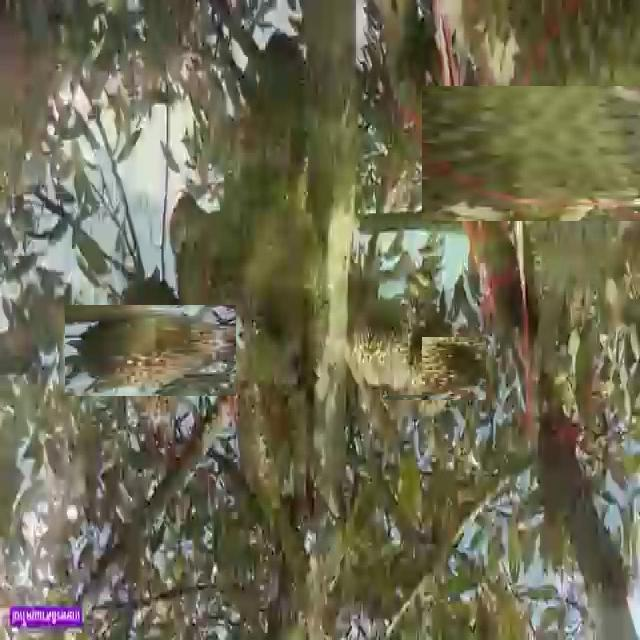durian: (461, 48, 640, 261), (84, 285, 216, 416), (349, 290, 422, 395), (393, 326, 476, 410)
